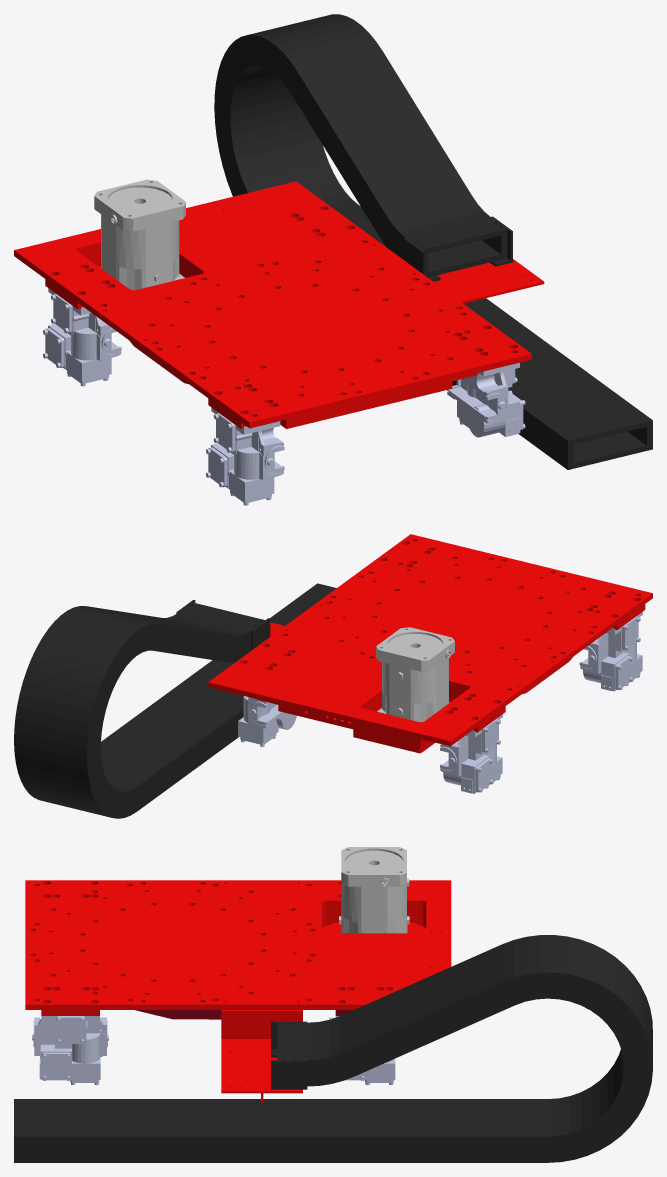
File: left_mount.dae
3 views of the same model, one above another, from view 1: azimuth 30°, elevation 25°; view 2: azimuth 150°, elevation 25°; view 3: azimuth 270°, elevation 25° (orthographic). The views are drawn at different scales.
Visible parts, largest first — view 1: node8, node5, node9, node0, node1, node2, node4; view 2: node8, node5, node9, node1, node0, node3; view 3: node5, node8, node9, node4, node2, node3, node6.
Part boxes in pixels (x1=…): node8: x1=14, y1=181, x2=531, y2=428; node5: x1=214, y1=14, x2=652, y2=469; node9: x1=94, y1=179, x2=185, y2=290; node0: x1=206, y1=407, x2=284, y2=505; node1: x1=43, y1=288, x2=121, y2=386; node2: x1=447, y1=362, x2=525, y2=437; node4: x1=434, y1=259, x2=544, y2=303; node8: x1=208, y1=534, x2=652, y2=753; node5: x1=14, y1=583, x2=336, y2=818; node9: x1=376, y1=627, x2=454, y2=722; node1: x1=440, y1=714, x2=502, y2=793; node0: x1=579, y1=612, x2=642, y2=691; node3: x1=238, y1=696, x2=296, y2=746; node5: x1=14, y1=935, x2=652, y2=1162; node8: x1=25, y1=880, x2=451, y2=1019; node9: x1=339, y1=847, x2=409, y2=933; node4: x1=221, y1=1010, x2=302, y2=1103; node2: x1=32, y1=1016, x2=108, y2=1085; node3: x1=329, y1=1016, x2=395, y2=1085; node6: x1=135, y1=1010, x2=221, y2=1019.
Size of the model in its own units: 0.9355 by 1.41 by 0.4636.
